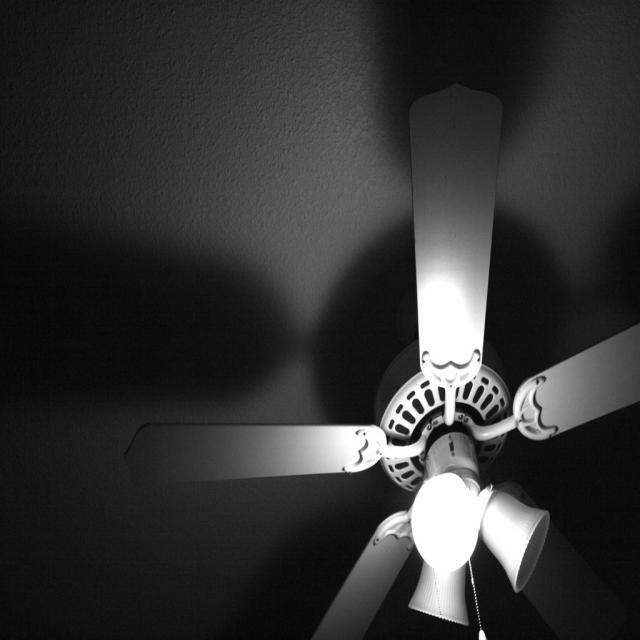fan_off: (122, 86, 640, 640)
